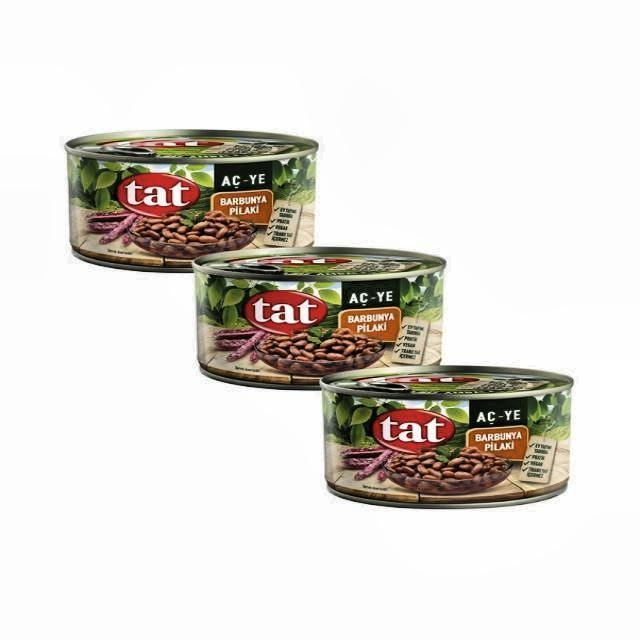metal: (319, 365, 574, 511), (64, 129, 317, 274), (192, 247, 445, 391)
